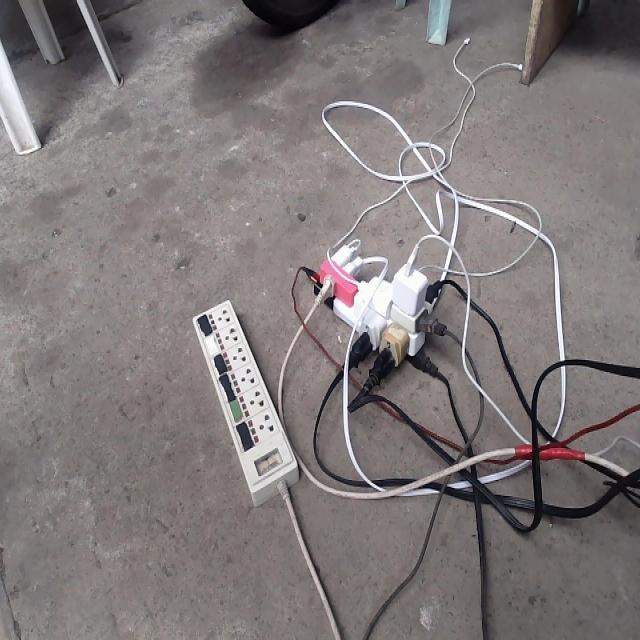-: (303, 229, 455, 388)
